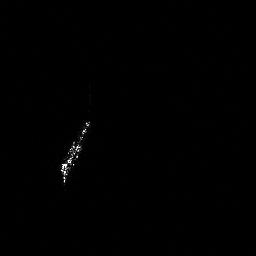ship: (53, 117, 95, 189)
